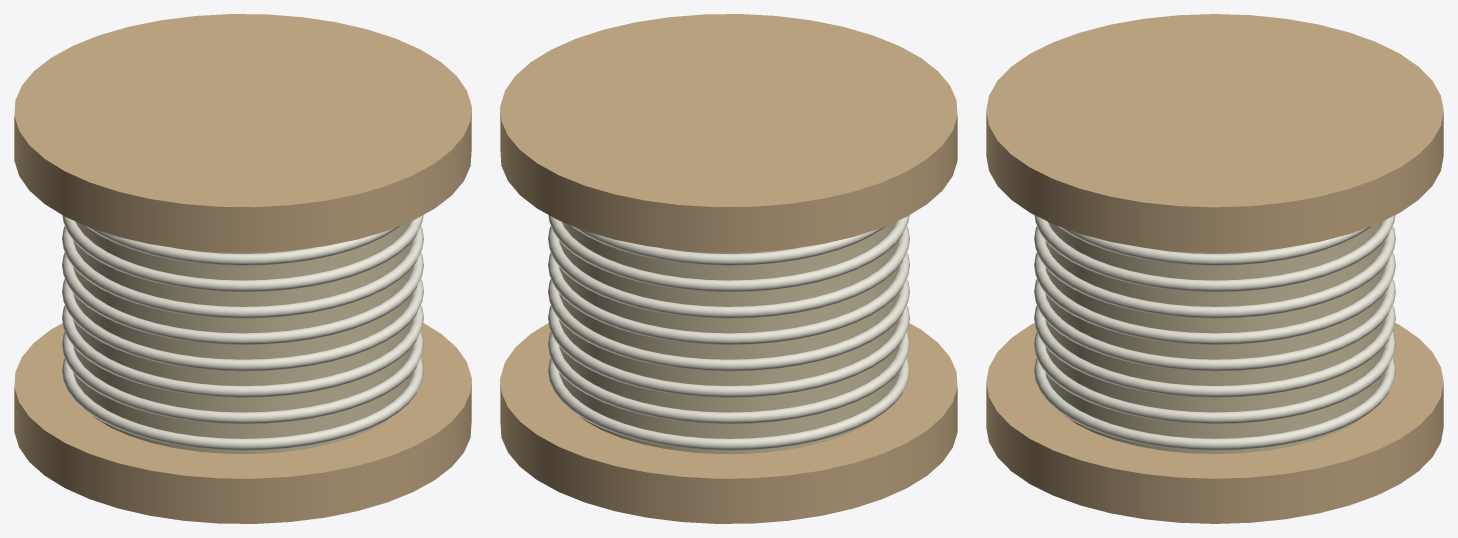
File: bookbinding-and-paper-mill-linen-thread-reel-89bfa2f3__30566.glb
3 renders of one model, left to right at view 1: azimuth 30°, elevation 25°; view 2: azimuth 150°, elevation 25°; view 3: azimuth 270°, elevation 25°, orthographic.
Parts seen in each view (by area): view 1: linen-thread-reel; view 2: linen-thread-reel; view 3: linen-thread-reel.
Boxes of the visible parts, x1,y1,x2,y2 form: linen-thread-reel: (14,14,471,523); linen-thread-reel: (500,14,957,523); linen-thread-reel: (986,14,1443,523).
Bounding box in the file's own units: 0.11 × 0.084 × 0.11.
